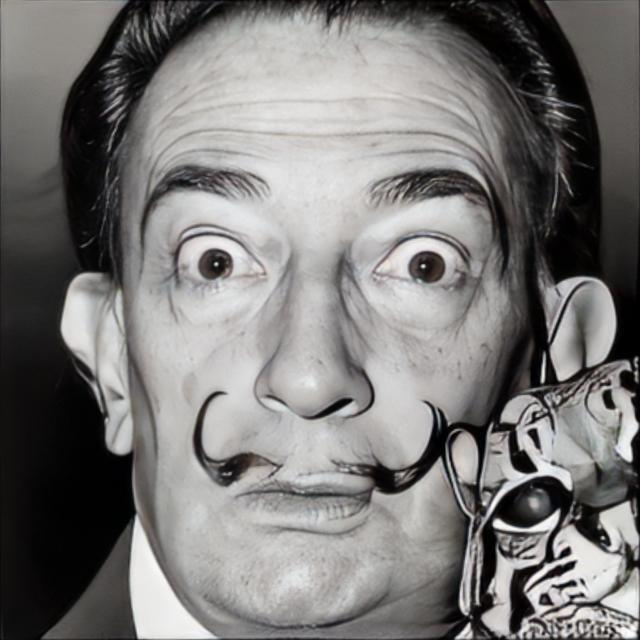fear: (120, 9, 534, 629)
